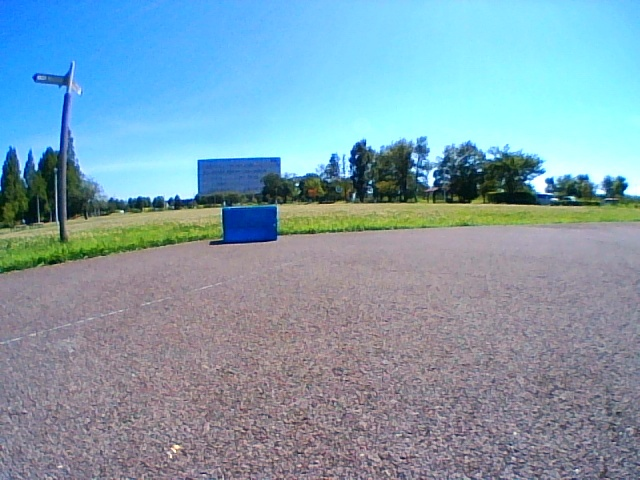blue_box: (222, 205, 278, 243)
